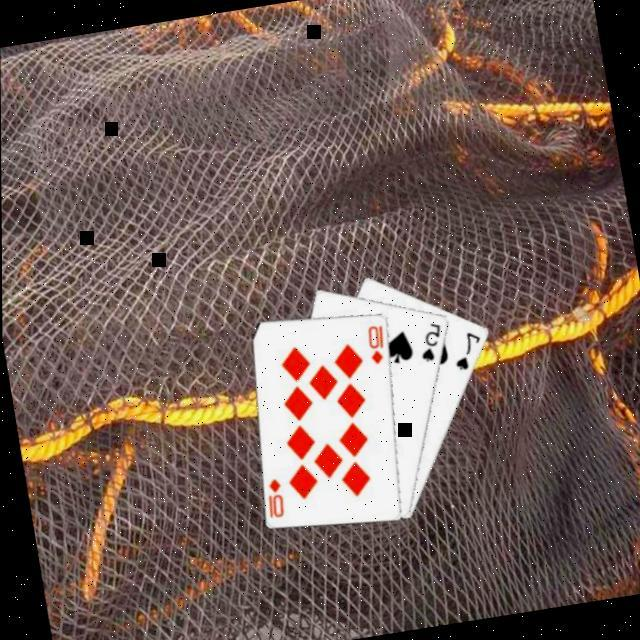10D: (362, 318, 391, 365), (260, 472, 288, 520)
5S: (413, 317, 449, 364)
7S: (448, 325, 488, 372)
